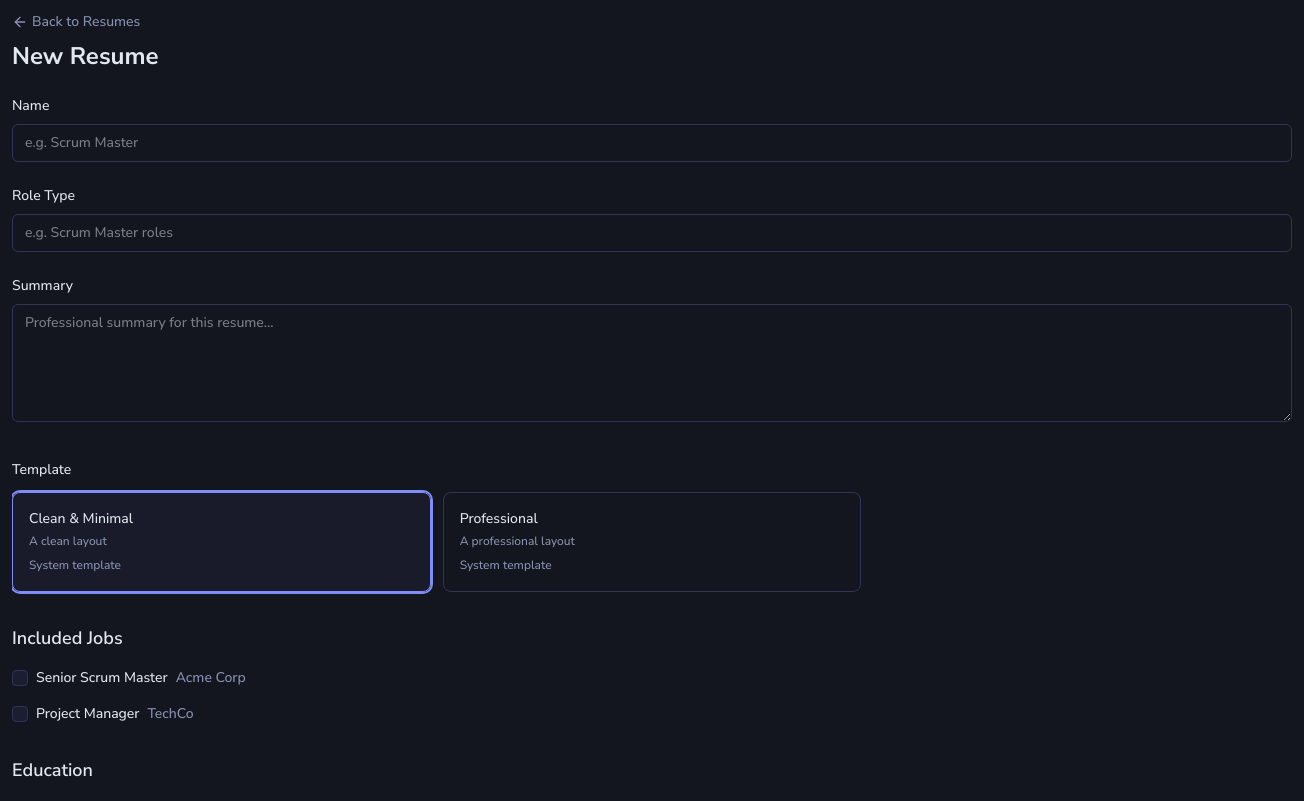
NewResumeWizard › job checkboxes › shows bullets when a job is checked and auto-selects all
The width and height of the screenshot is (1304, 801).
Step 1. Click the checkbox named "Senior Scrum Master at Acme Corp" → (20, 678), box [12,670,28,686]
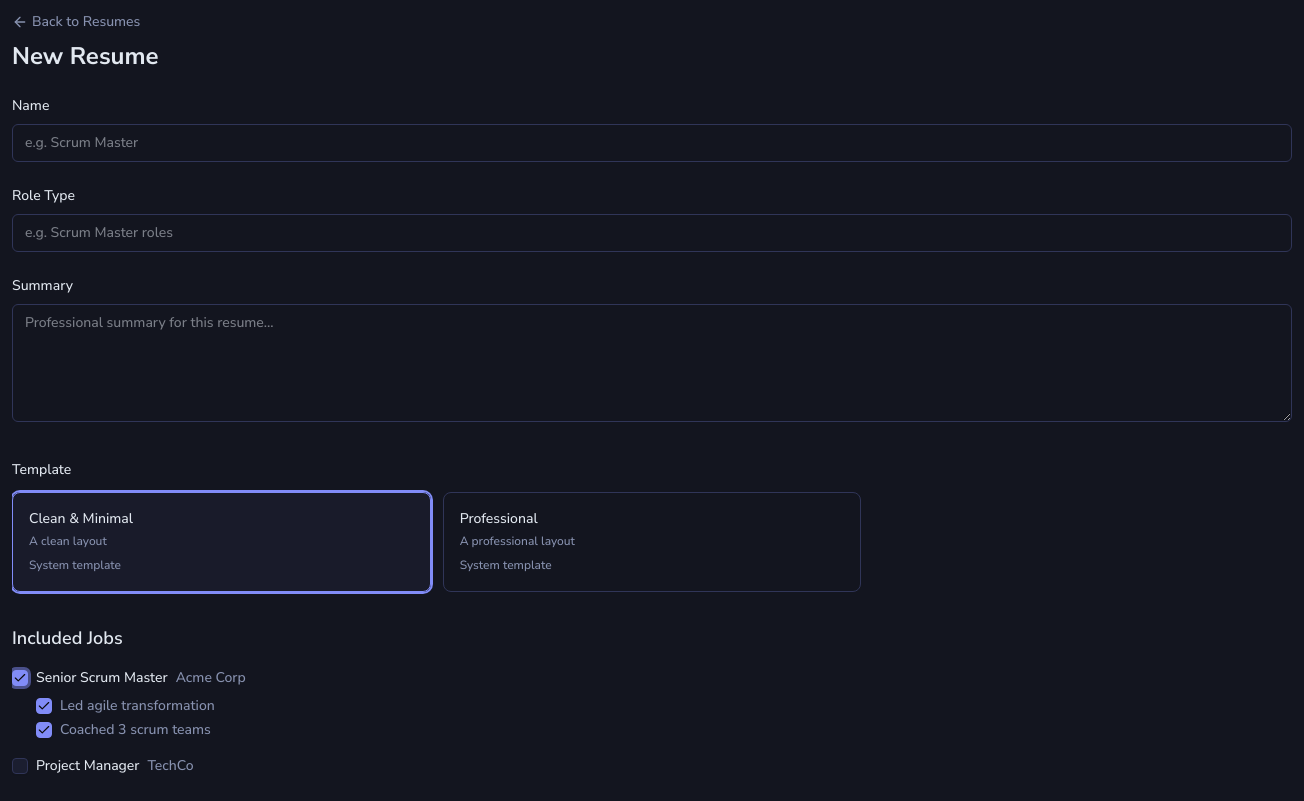
Expected: the checkbox named "Led agile transformation" is checked, [36,698,52,714]
